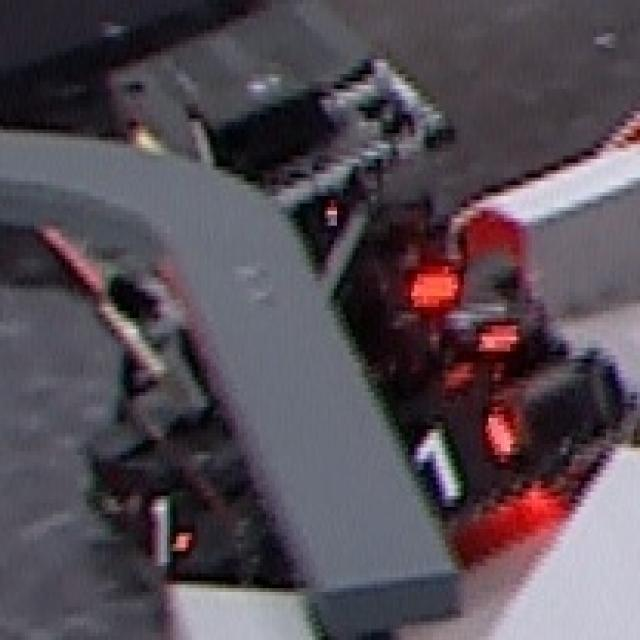R1: (399, 403, 516, 511), (408, 259, 516, 355)
